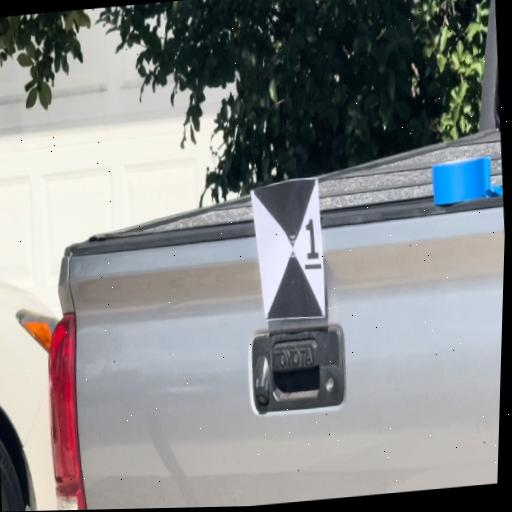target1: (248, 183, 329, 323)
